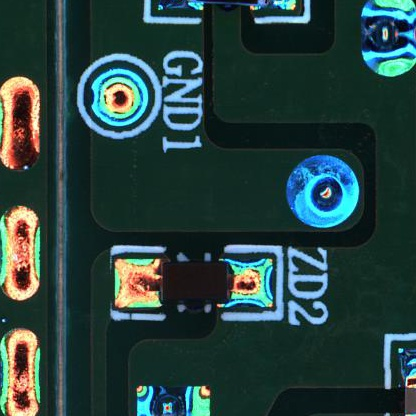spot: (281, 148, 365, 240), (89, 65, 151, 127)
